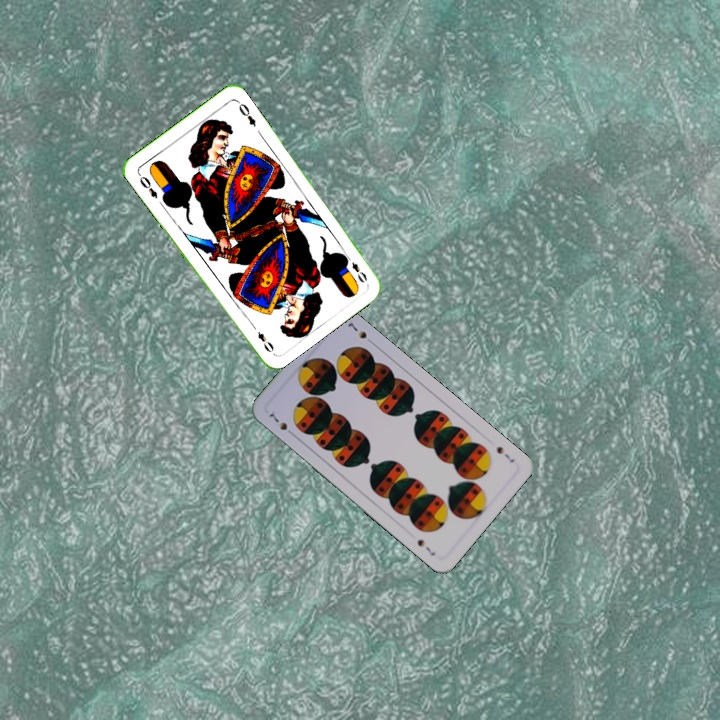EO: (341, 250, 370, 285), (134, 169, 160, 202)
S7: (265, 409, 297, 439), (492, 442, 517, 465)
